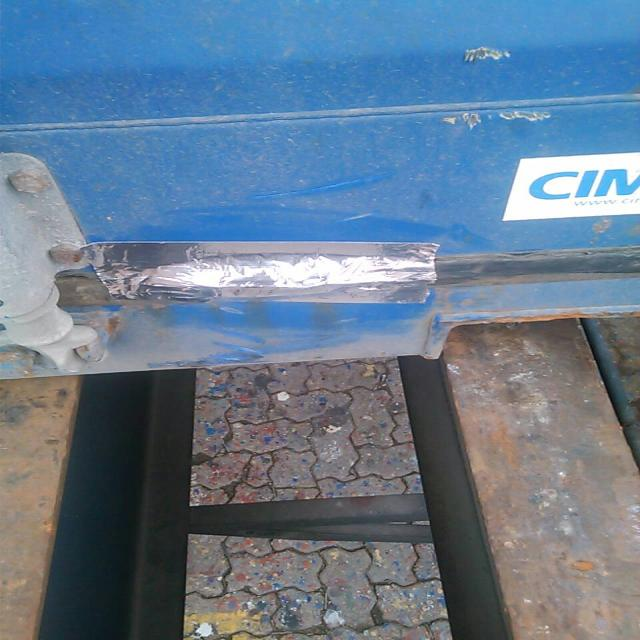rust: (456, 308, 640, 328), (102, 314, 123, 342)
